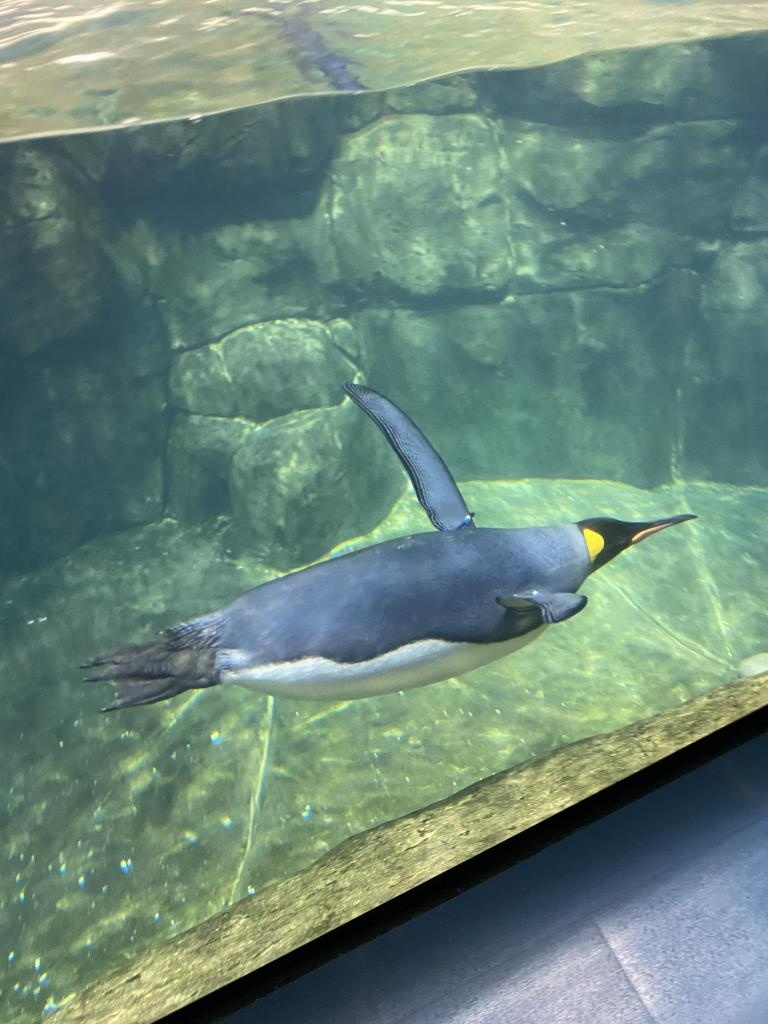penguin: (62, 388, 708, 710)
